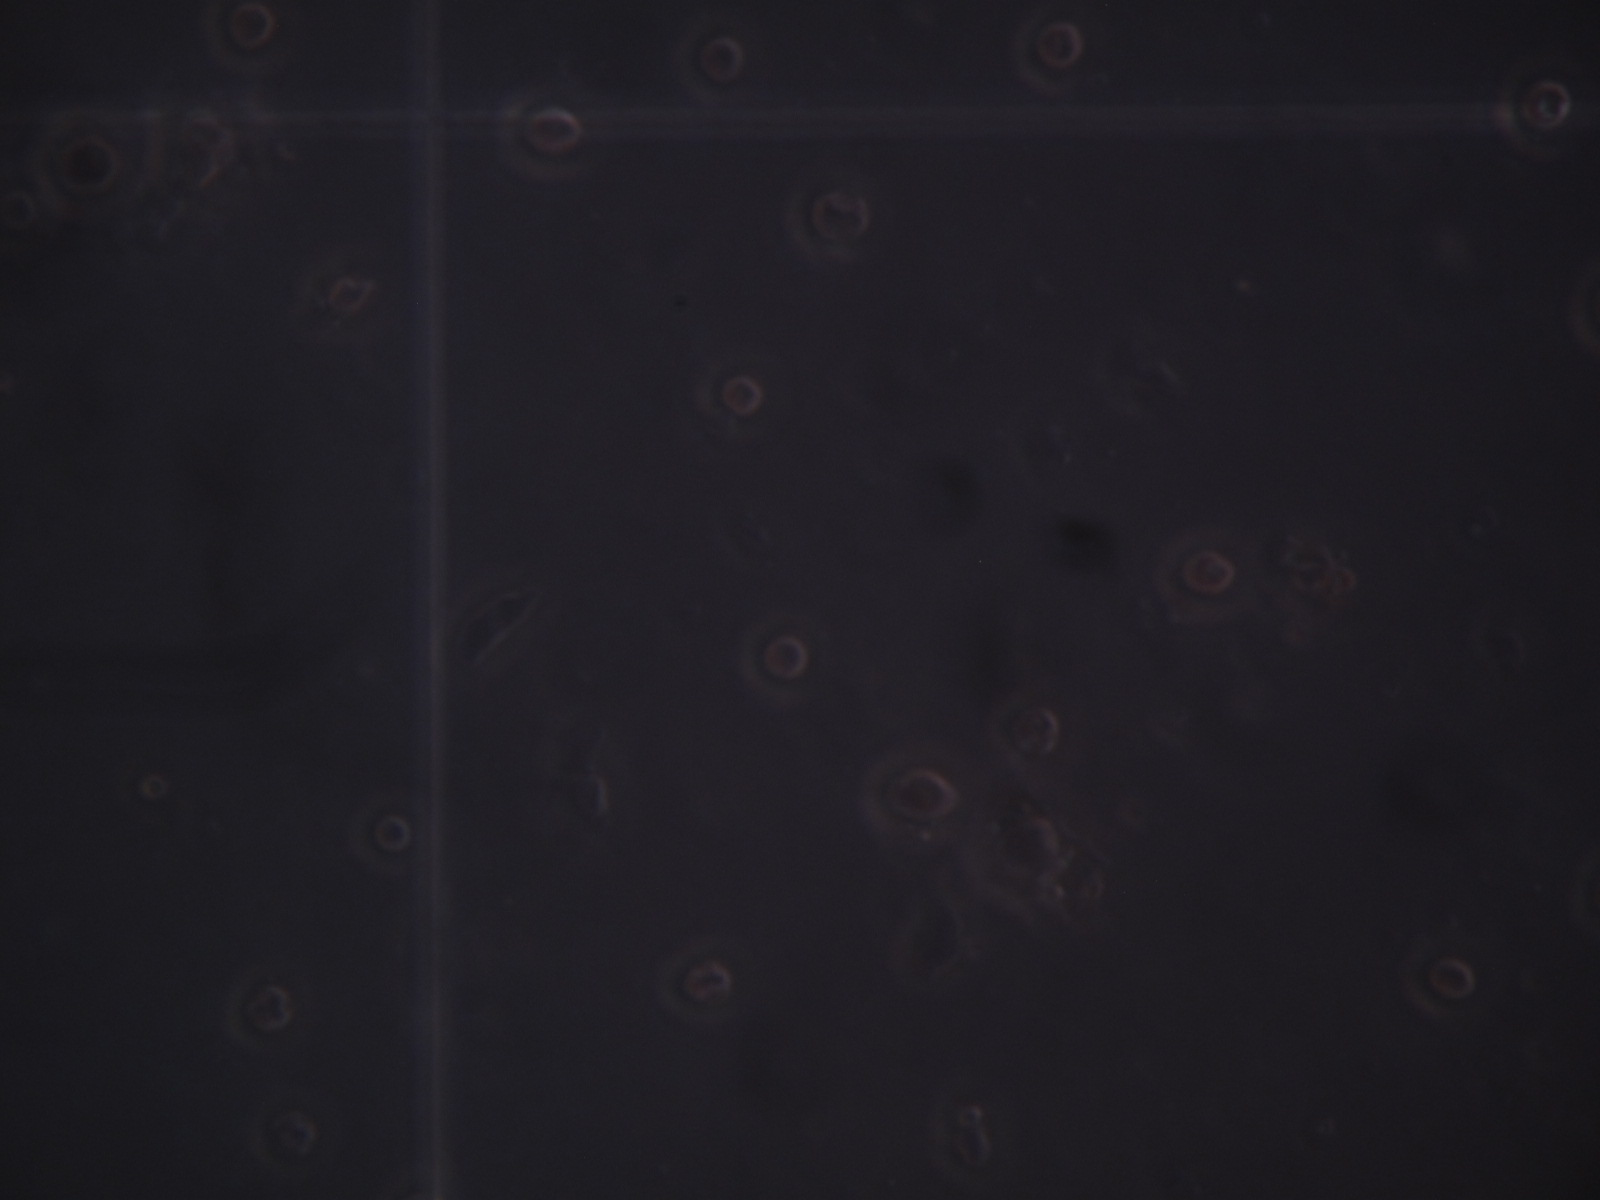hemo: (855, 746, 957, 851), (969, 681, 1065, 788), (965, 794, 1057, 900), (1148, 521, 1242, 621), (142, 115, 227, 226), (31, 107, 116, 216), (1494, 57, 1579, 159), (493, 92, 585, 182), (655, 934, 738, 1029), (785, 176, 869, 265), (670, 11, 745, 107), (1008, 6, 1083, 98), (1402, 932, 1474, 1022), (740, 613, 808, 707), (251, 1088, 320, 1177), (346, 789, 414, 880), (208, 1, 294, 72), (226, 964, 290, 1053), (690, 364, 769, 434), (301, 257, 367, 316)
